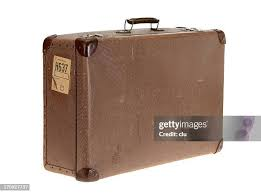suitcase: (40, 17, 229, 183)
